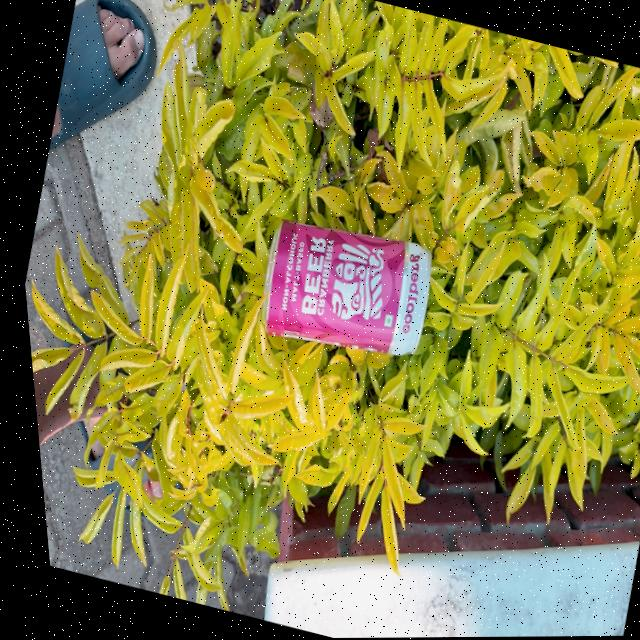Coolberg: (241, 205, 443, 376)
